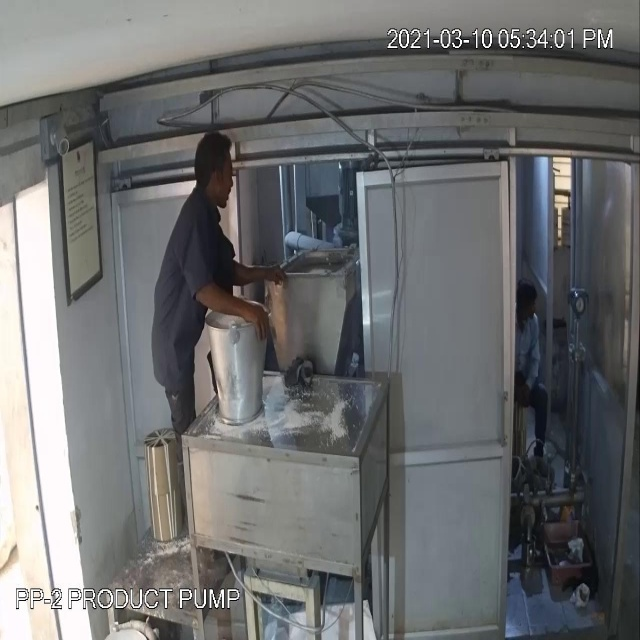Sin_guantes: (186, 260, 269, 372)
